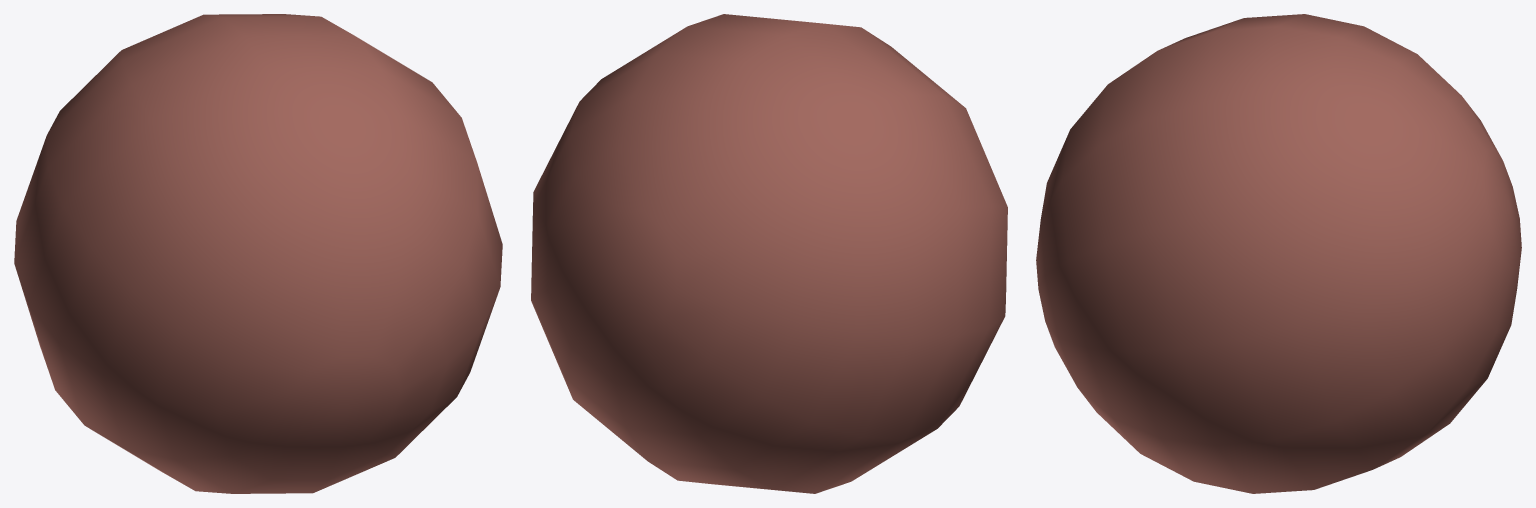
Rendered from mixamo_humanoid_joint_rightHandRing1.fbx.
3 renders of one model, left to right at view 1: azimuth 30°, elevation 25°; view 2: azimuth 150°, elevation 25°; view 3: azimuth 270°, elevation 25°, orthographic.
Visible parts, largest first — view 1: joint_RightHandRing1; view 2: joint_RightHandRing1; view 3: joint_RightHandRing1.
Boxes of the visible parts, box(x1,y1,x2,y2) form: joint_RightHandRing1: box(14, 14, 502, 493); joint_RightHandRing1: box(531, 14, 1007, 493); joint_RightHandRing1: box(1036, 14, 1521, 493).
Size of the model in its own units: 2.51 by 2.54 by 2.54.
